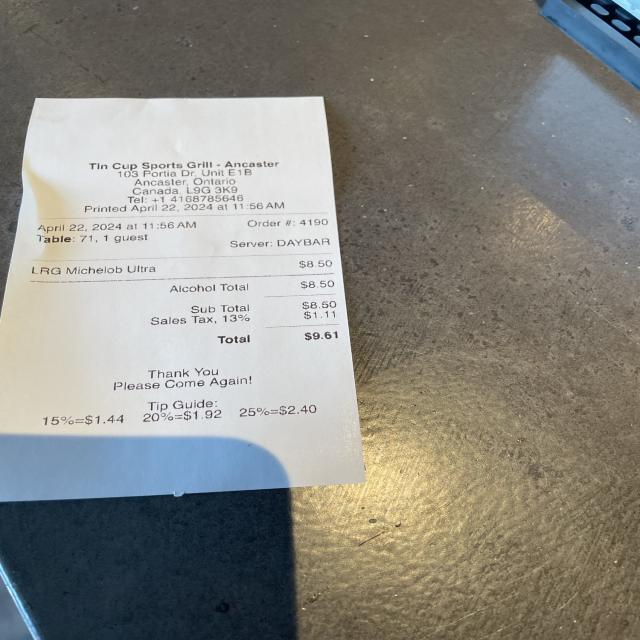item: (25, 257, 338, 279)
store_name: (83, 158, 285, 174)
total_amount: (209, 326, 347, 350)
transaction_date: (32, 220, 130, 234)
